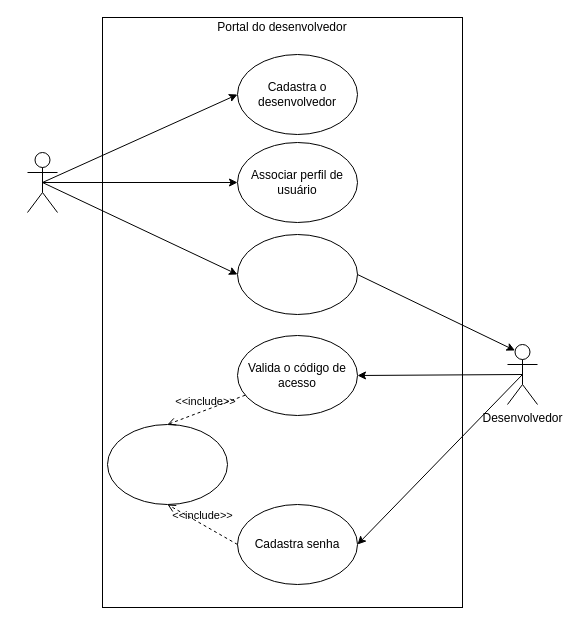
Some shapes in this 580 by 640 pixel diagram are drawn without their labels. The shapes that lost their labels are listed below. From the top down, each one's box as (x1, y1, x2, y2) in pixels, then its label:
(26, 152, 58, 212): Negócios
(236, 234, 358, 314): Solicita o envio do código de acesso
(106, 424, 228, 504): Login
